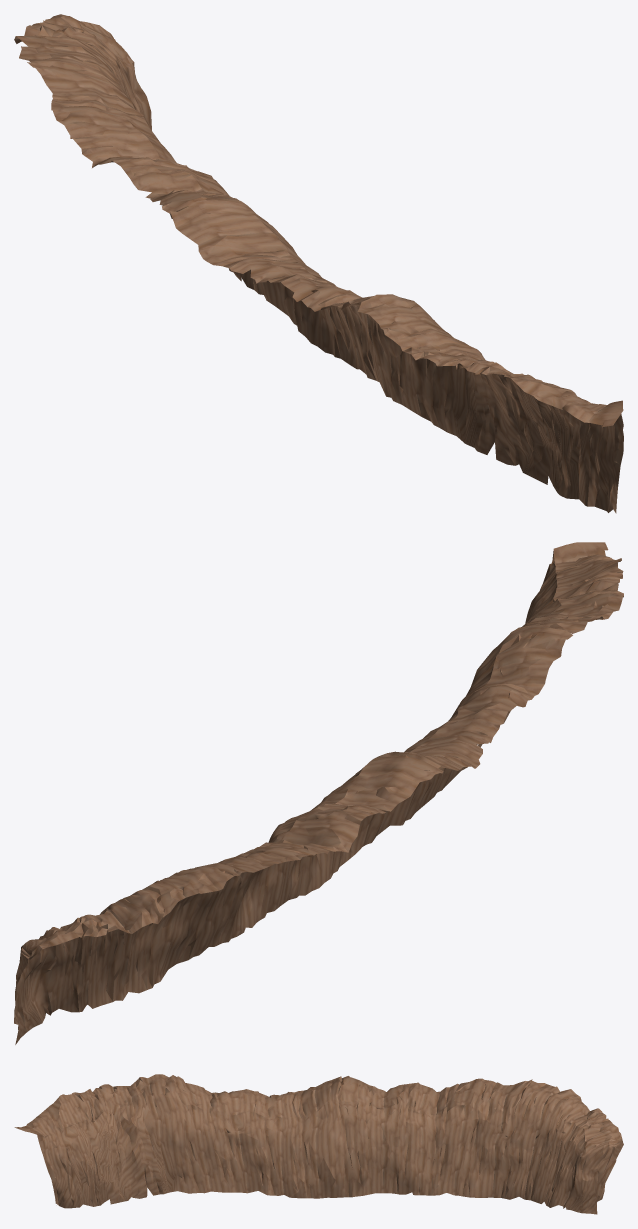
File: SM_ENV_LKNVLD_FaceRock_BG_B_03.FBX
3 renders of one model, top to bottom at view 1: azimuth 30°, elevation 25°; view 2: azimuth 150°, elevation 25°; view 3: azimuth 270°, elevation 25°, orthographic. The views are drawn at different scales.
Parts seen in each view (by area): view 1: SM_ENV_LKNVLD_FaceRock_BG_B_03; view 2: SM_ENV_LKNVLD_FaceRock_BG_B_03; view 3: SM_ENV_LKNVLD_FaceRock_BG_B_03.
Part boxes in pixels (box(x1,y1,x2,y2)): SM_ENV_LKNVLD_FaceRock_BG_B_03: box(14, 14, 623, 513); SM_ENV_LKNVLD_FaceRock_BG_B_03: box(14, 542, 623, 1044); SM_ENV_LKNVLD_FaceRock_BG_B_03: box(14, 1074, 623, 1214).
Size of the model in its own units: 23563 by 19405 by 111870.
